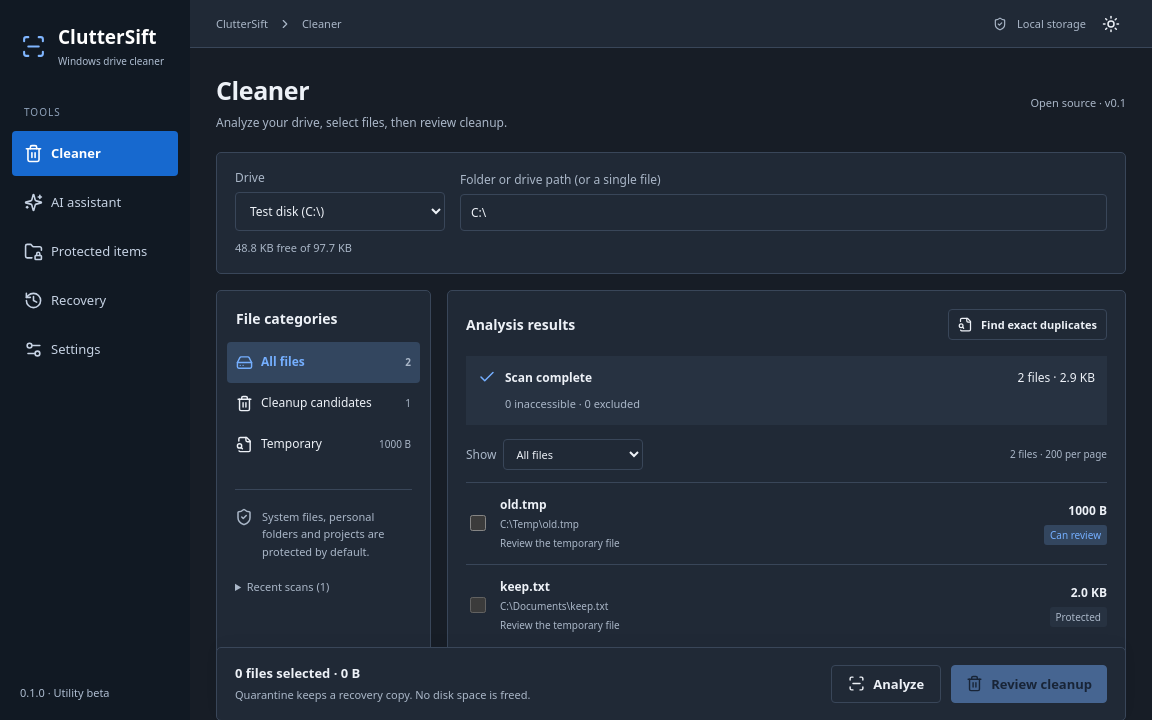
Test: review workflow › refreshes fast scan results when completion arrives before an older initial response
The width and height of the screenshot is (1152, 720).
Click the button "Analyze": (886, 683) 831,664 -> 941,702
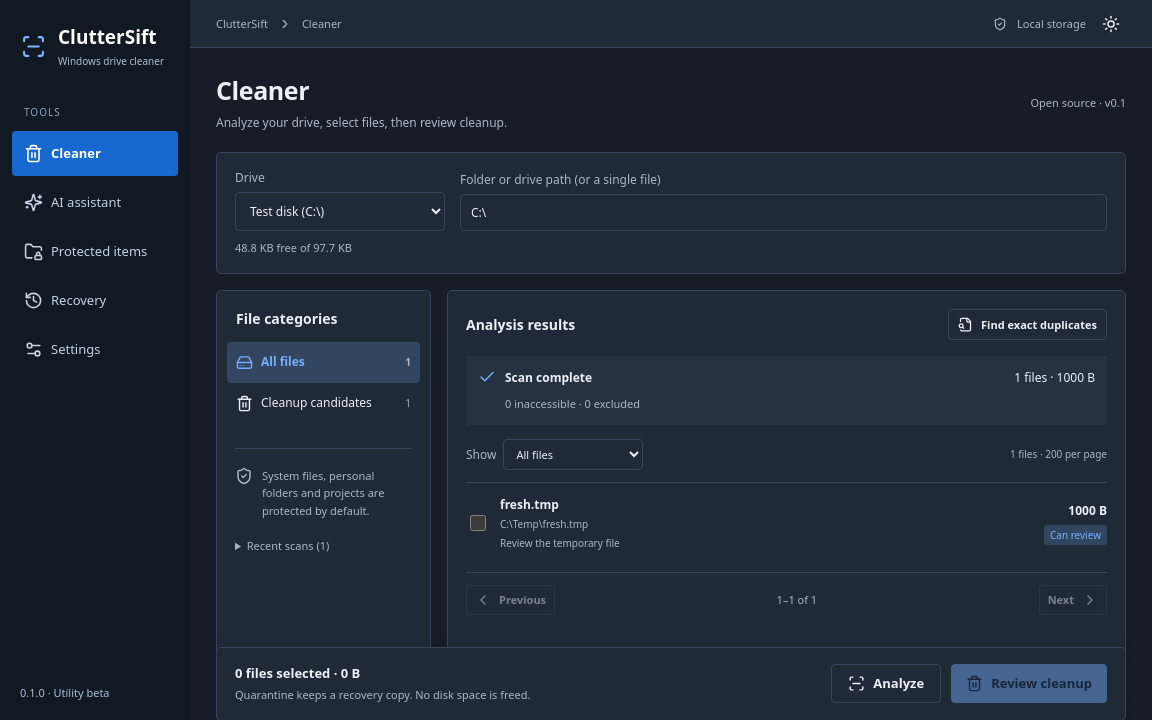
expect the text "Scan complete" is shown: met, box 505,369 -> 592,386
expect the text "fresh.tmp" is shown: met, box 500,496 -> 559,513
